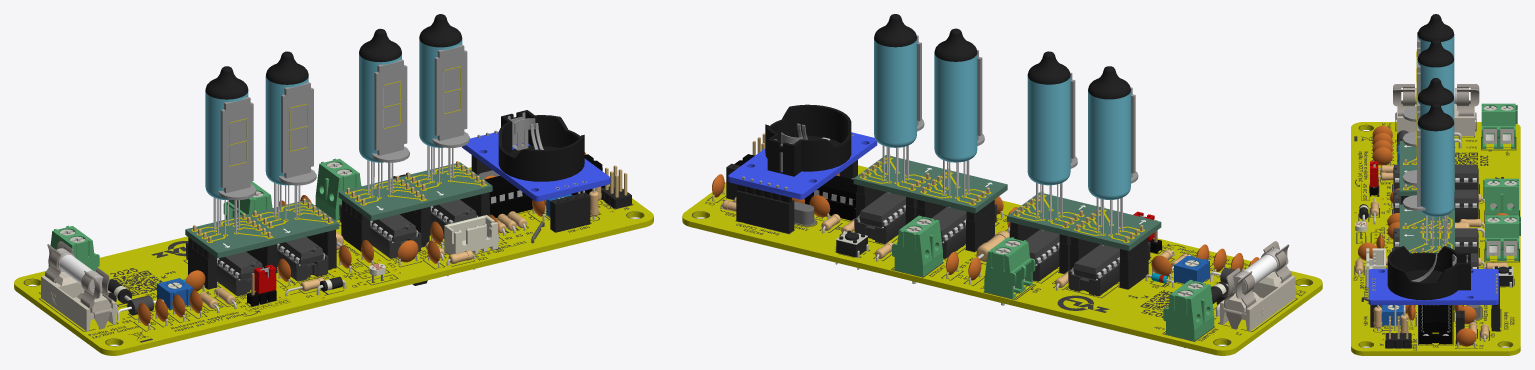
The model's file is clock-pcb.glb.
3 views of the same model, side by side, from view 1: azimuth 30°, elevation 25°; view 2: azimuth 150°, elevation 25°; view 3: azimuth 270°, elevation 25° (orthographic). The views are drawn at different scales.
Parts seen in each view (by area): view 1: object 136, =>[0:1:1:14] (×4), =>[0:1:1:13] (×4), object 108, external-iv9-socket_PCB:1 (×4), object 132, DIP20N IC (×4), object 134, DIP20N socket (×3), TLACIDLO2, PinSocket_1x04_P2.54mm_Vertical v1:1 (×2), NAPÃJANIE1 (+4 smaller); view 2: =>[0:1:1:14] (×4), object 136, object 108, external-iv9-socket_PCB:1 (×4), object 132, DIP20N IC (×4), TLACIDLO1, TLACIDLO2, NAPÃJANIE1, DIP20N socket (×3), PinSocket_1x04_P2.54mm_Vertical v1:1 (×2), object 134 (+2 smaller); view 3: object 136, =>[0:1:1:14] (×4), object 108, external-iv9-socket_PCB:1 (×4), object 132, DIP20N IC (×3), NAPÃJANIE1, object 134, TLACIDLO2, TLACIDLO1, DIP20N socket (×3), podstava:1 (×4) (+14 smaller).
Boxes of the visible parts, x1=… form: object 136: x1=14, y1=154, x2=653, y2=355; =>[0:1:1:14] (×4): x1=205, y1=14, x2=462, y2=235; =>[0:1:1:13] (×4): x1=220, y1=44, x2=467, y2=192; object 108: x1=462, y1=110, x2=610, y2=232; external-iv9-socket_PCB:1 (×4): x1=185, y1=162, x2=492, y2=258; object 132: x1=41, y1=241, x2=163, y2=331; DIP20N IC (×4): x1=217, y1=199, x2=478, y2=279; object 134: x1=285, y1=165, x2=631, y2=296; DIP20N socket (×3): x1=186, y1=204, x2=421, y2=296; TLACIDLO2: x1=315, y1=158, x2=361, y2=220; PinSocket_1x04_P2.54mm_Vertical v1:1 (×2): x1=188, y1=207, x2=370, y2=289; NAPÃJANIE1: x1=48, y1=225, x2=99, y2=271; =>[0:1:1:14] (×4): x1=874, y1=14, x2=1130, y2=245; object 136: x1=682, y1=154, x2=1322, y2=355; object 108: x1=728, y1=104, x2=877, y2=233; external-iv9-socket_PCB:1 (×4): x1=853, y1=155, x2=1161, y2=250; object 132: x1=726, y1=163, x2=1295, y2=331; DIP20N IC (×4): x1=858, y1=192, x2=1119, y2=279; TLACIDLO1: x1=984, y1=237, x2=1035, y2=305; TLACIDLO2: x1=892, y1=215, x2=942, y2=283; NAPÃJANIE1: x1=1163, y1=279, x2=1214, y2=348; DIP20N socket (×3): x1=854, y1=210, x2=1150, y2=296; PinSocket_1x04_P2.54mm_Vertical v1:1 (×2): x1=966, y1=207, x2=1148, y2=289; object 134: x1=752, y1=133, x2=1173, y2=287; object 136: x1=1351, y1=122, x2=1520, y2=355; =>[0:1:1:14] (×4): x1=1417, y1=14, x2=1454, y2=247; object 108: x1=1368, y1=246, x2=1499, y2=331; external-iv9-socket_PCB:1 (×4): x1=1399, y1=141, x2=1454, y2=253; object 132: x1=1393, y1=84, x2=1479, y2=343; DIP20N IC (×3): x1=1393, y1=164, x2=1478, y2=245; NAPÃJANIE1: x1=1481, y1=103, x2=1517, y2=148; object 134: x1=1359, y1=198, x2=1513, y2=348; TLACIDLO2: x1=1485, y1=215, x2=1520, y2=260; TLACIDLO1: x1=1483, y1=178, x2=1518, y2=215; DIP20N socket (×3): x1=1393, y1=170, x2=1478, y2=257; podstava:1 (×4): x1=1402, y1=106, x2=1425, y2=210.
Bounding box in the file's own units: 0.16 × 0.0614 × 0.0501.
